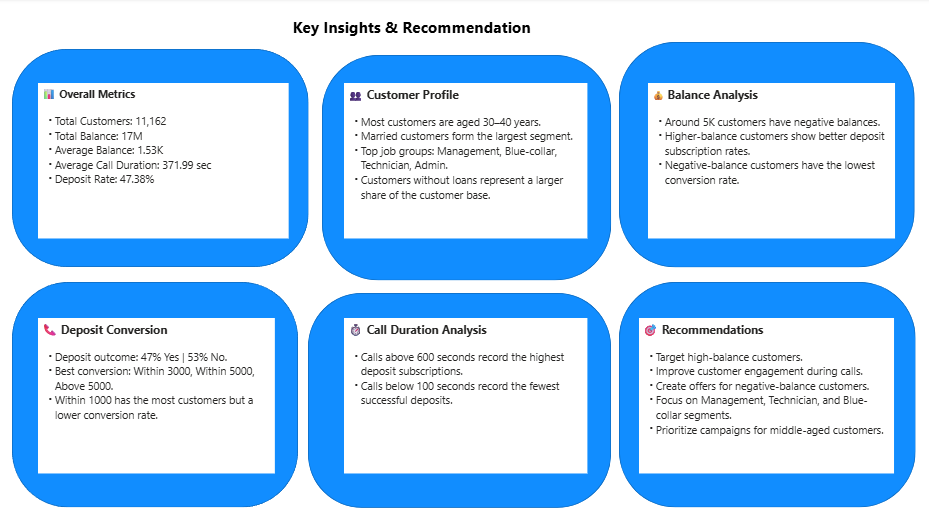

The page's visual inventory and layout, read from the dashboard file:
{"tool":"powerbi","page":{"name":"Key Iinsights","canvas":[1280,720],"ordinal":5},"visuals":[{"type":"textbox","box":[398,20.5,361.5,48.3],"z":0},{"type":"shape","box":[443.4,79,398,310.2],"z":1},{"type":"shape","box":[16.1,70.2,408.3,300],"z":2},{"type":"shape","box":[851.7,60,406.8,310.2],"z":3},{"type":"shape","box":[16.1,390.7,393.7,310.2],"z":4},{"type":"shape","box":[424.4,405.4,417.1,295.6],"z":5},{"type":"shape","box":[851.7,390.7,408.3,310.2],"z":6},{"type":"textbox","box":[52.7,117.1,345.4,213.7],"z":7},{"type":"textbox","box":[474.1,117.1,335.1,213.7],"z":8},{"type":"textbox","box":[891.2,117.1,339.5,213.7],"z":9},{"type":"textbox","box":[52.7,440.5,326.3,213.7],"z":10},{"type":"textbox","box":[474.1,440.5,335.1,213.7],"z":11},{"type":"textbox","box":[879.5,440.5,351.2,213.7],"z":12}]}

Visuals, with their boxes in screenshot pixels (x1, y1, x2, y2), scaled from the page's 1280x720 canvas onto the 929x514 screenshot:
textbox: [289, 15, 551, 49]
shape: [322, 56, 611, 278]
shape: [12, 50, 308, 264]
shape: [618, 43, 913, 264]
shape: [12, 279, 297, 500]
shape: [308, 289, 611, 500]
shape: [618, 279, 914, 500]
textbox: [38, 84, 289, 236]
textbox: [344, 84, 587, 236]
textbox: [647, 84, 893, 236]
textbox: [38, 314, 275, 467]
textbox: [344, 314, 587, 467]
textbox: [638, 314, 893, 467]
